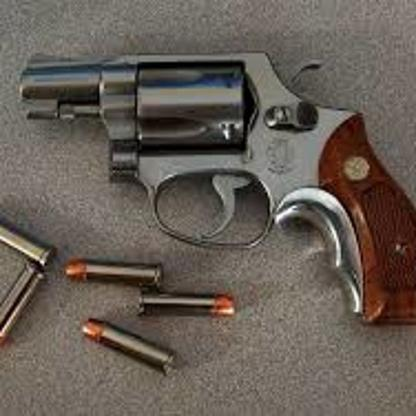handgun: (20, 52, 414, 321)
